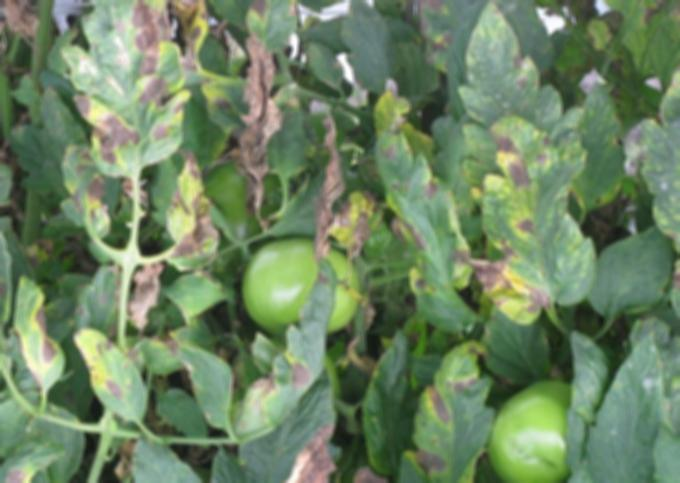Tomato Early blight leaf: (475, 101, 592, 331), (390, 81, 469, 349), (82, 0, 192, 174), (235, 265, 342, 438), (397, 342, 496, 483), (148, 169, 230, 269), (643, 41, 680, 259), (88, 315, 149, 421), (63, 121, 113, 242), (10, 283, 67, 386), (244, 0, 304, 49)
